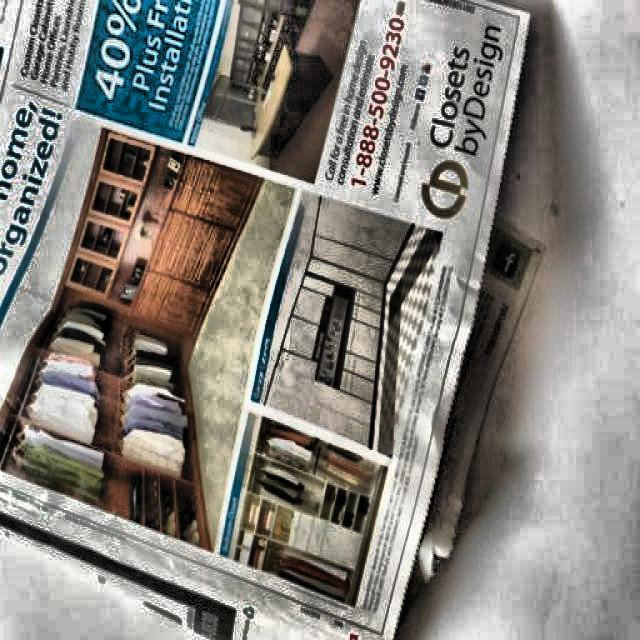Paper: (0, 0, 545, 638)
